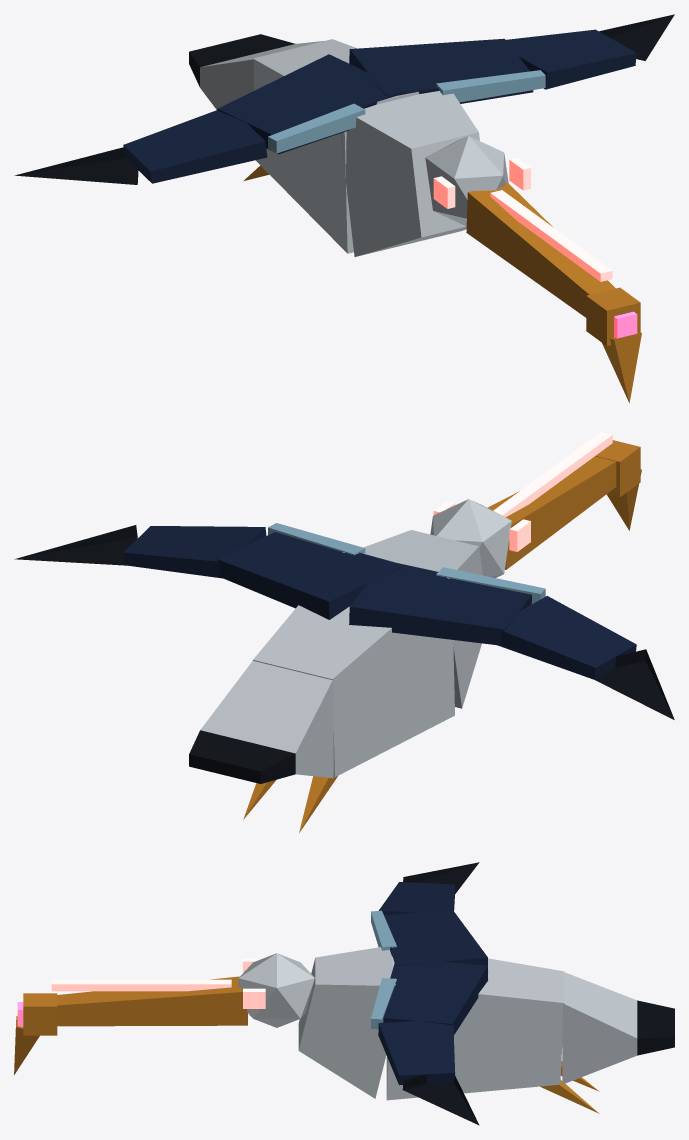
The model's file is sniper.glb.
3 views of the same model, one above another, from view 1: azimuth 30°, elevation 25°; view 2: azimuth 150°, elevation 25°; view 3: azimuth 270°, elevation 25° (orthographic). The views are drawn at different scales.
Visible parts, largest first — view 1: ISniperHull, ISniperGlow; view 2: ISniperHull, ISniperGlow; view 3: ISniperHull, ISniperGlow.
Boxes of the visible parts, left/top/right/bottom form: ISniperHull: left=14, top=14, right=674, bottom=403; ISniperGlow: left=433, top=158, right=637, bottom=338; ISniperHull: left=14, top=440, right=674, bottom=832; ISniperGlow: left=433, top=432, right=612, bottom=551; ISniperHull: left=14, top=862, right=674, bottom=1125; ISniperGlow: left=17, top=958, right=265, bottom=1026.
Size of the model in its own units: 1.66 by 0.44 by 1.76.
